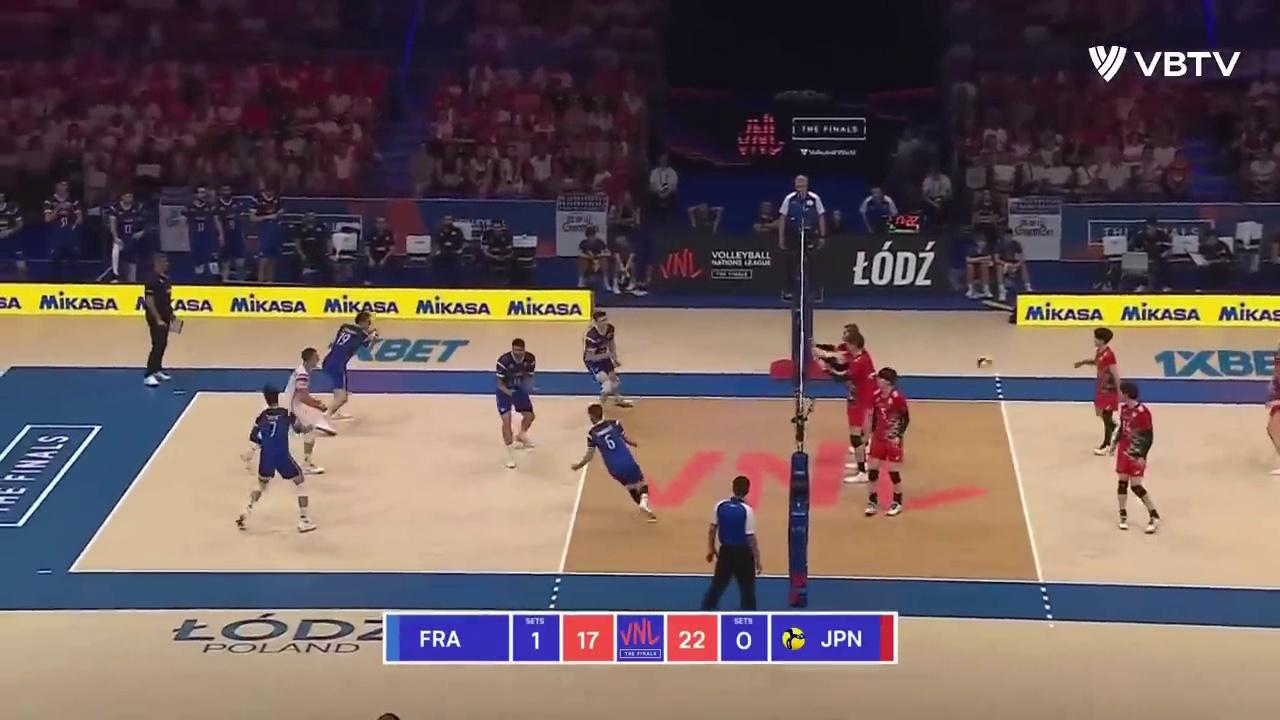ball: (978, 357, 991, 369)
